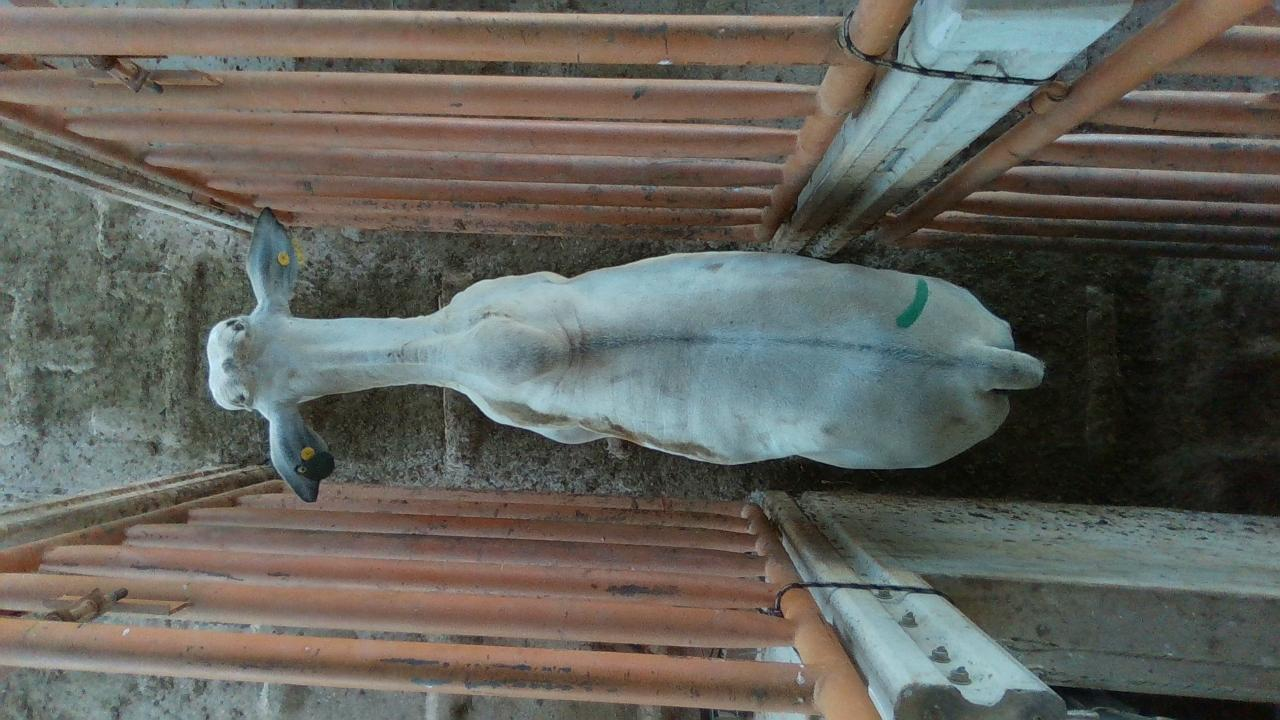cattle: (204, 204, 1046, 502)
